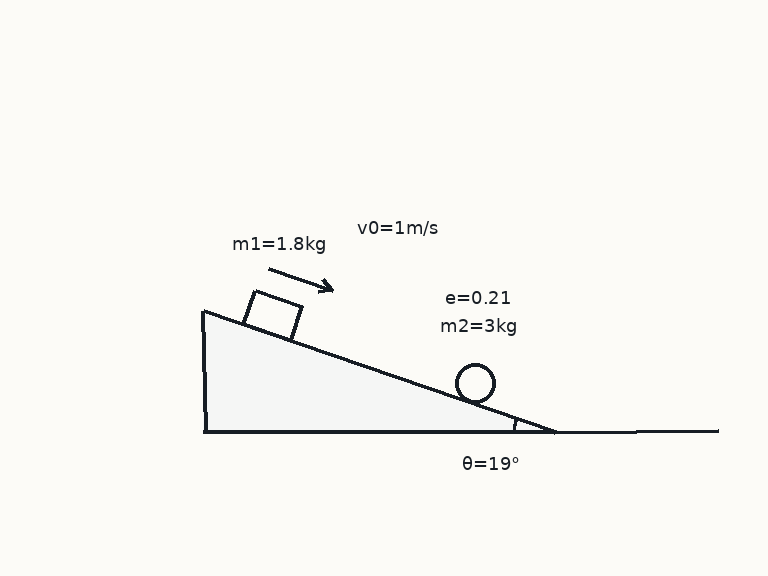ball: (453, 361, 497, 405)
block: (242, 288, 303, 342)
ramp: (201, 308, 556, 433)
